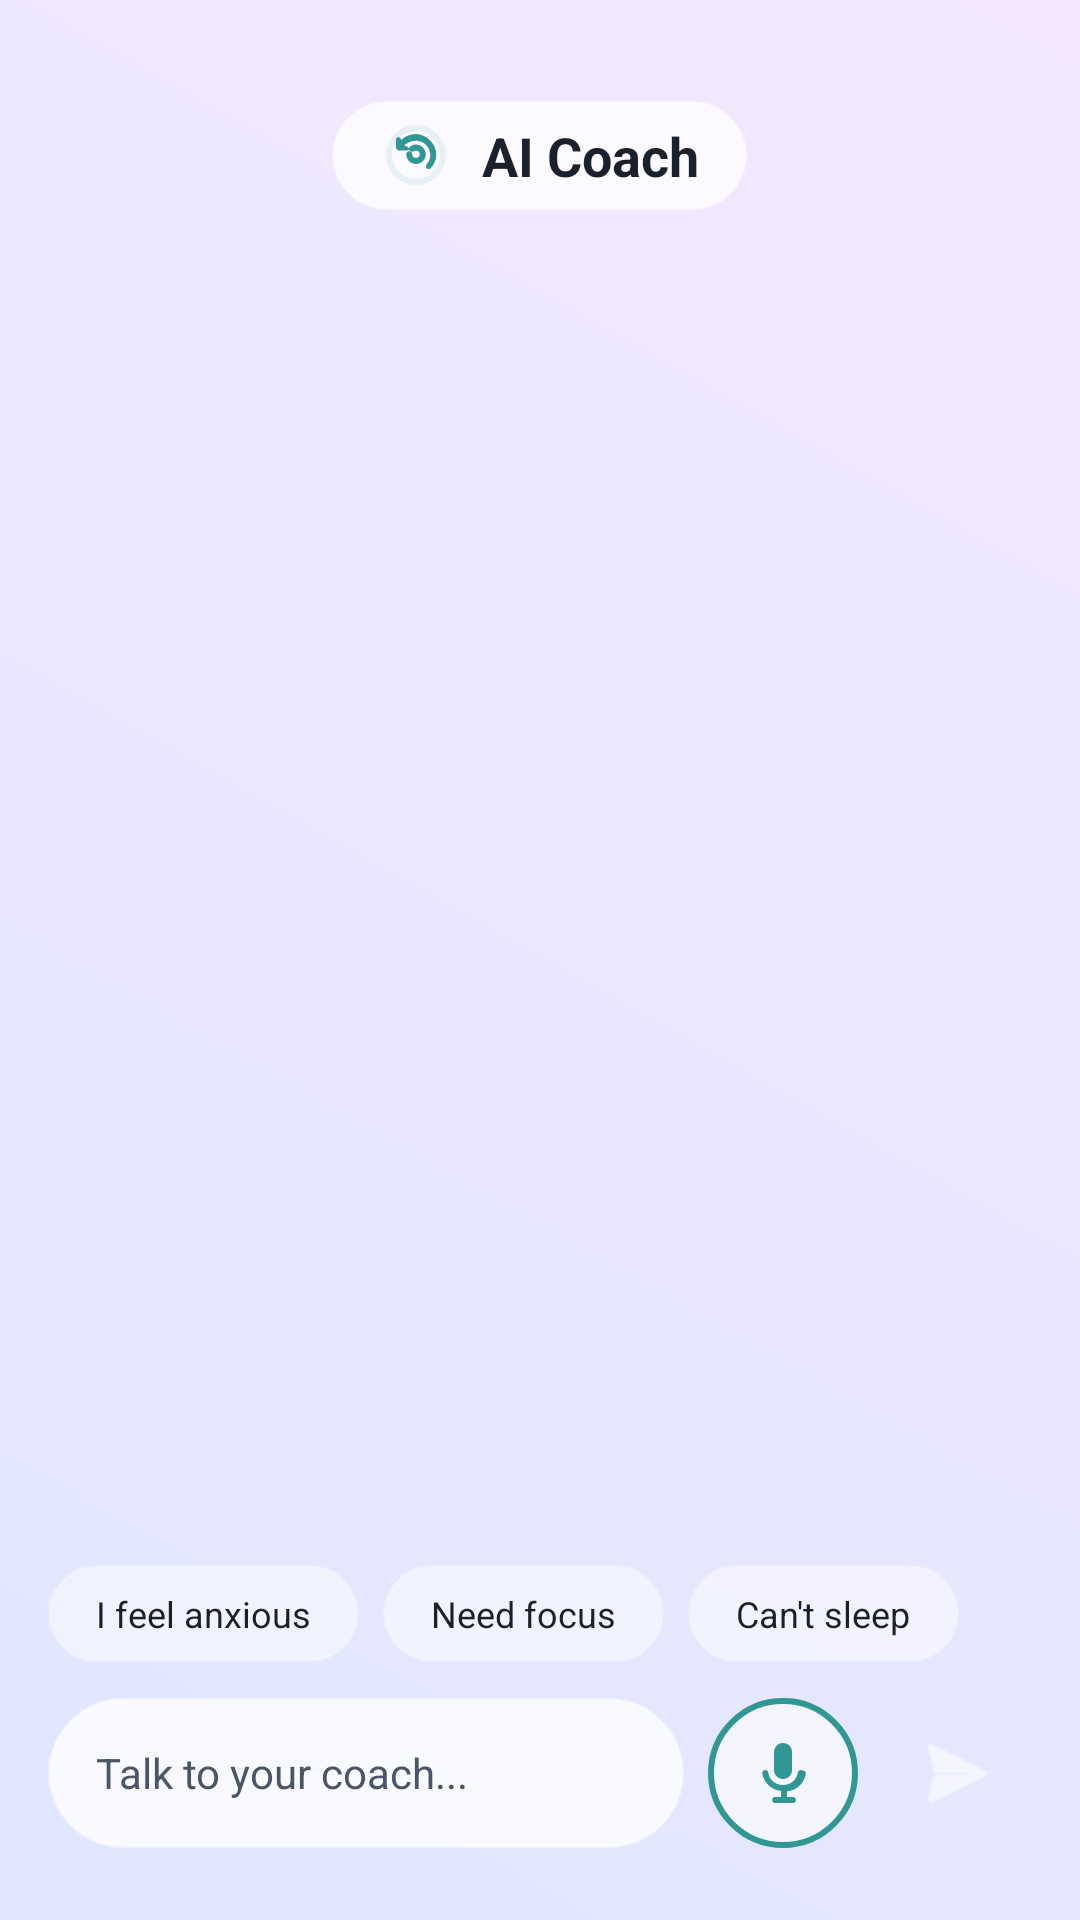

Locate icon controls on the screen. Image size 1080x1920, boxes as bbox=[x1, y1, x2, y2].
mic: bbox=[708, 1698, 858, 1848]
